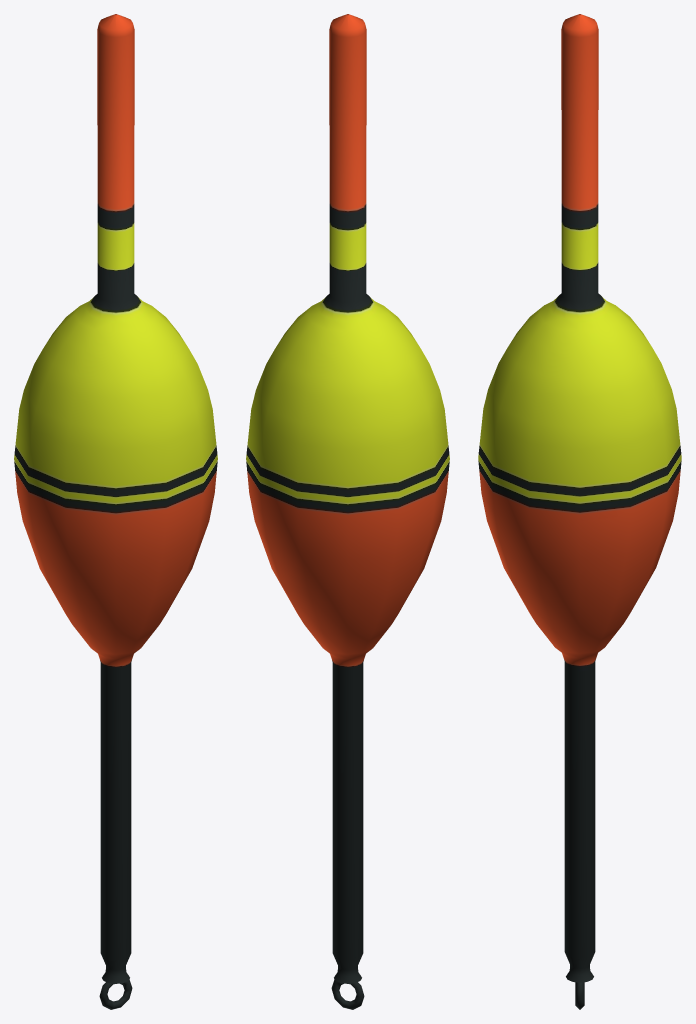
The picture shows the model from 3 angles, left to right: view 1: azimuth 30°, elevation 25°; view 2: azimuth 150°, elevation 25°; view 3: azimuth 270°, elevation 25°; orthographic projection.
Visible parts, largest first — view 1: F01_Float; view 2: F01_Float; view 3: F01_Float.
Part boxes in pixels (left/top/right/bottom): F01_Float: left=14, top=14, right=217, bottom=1009; F01_Float: left=246, top=14, right=449, bottom=1009; F01_Float: left=478, top=14, right=681, bottom=1009.
Size of the model in its own units: 0.0149 by 0.08 by 0.0149.
Materials: 1 (1 with a texture image).
